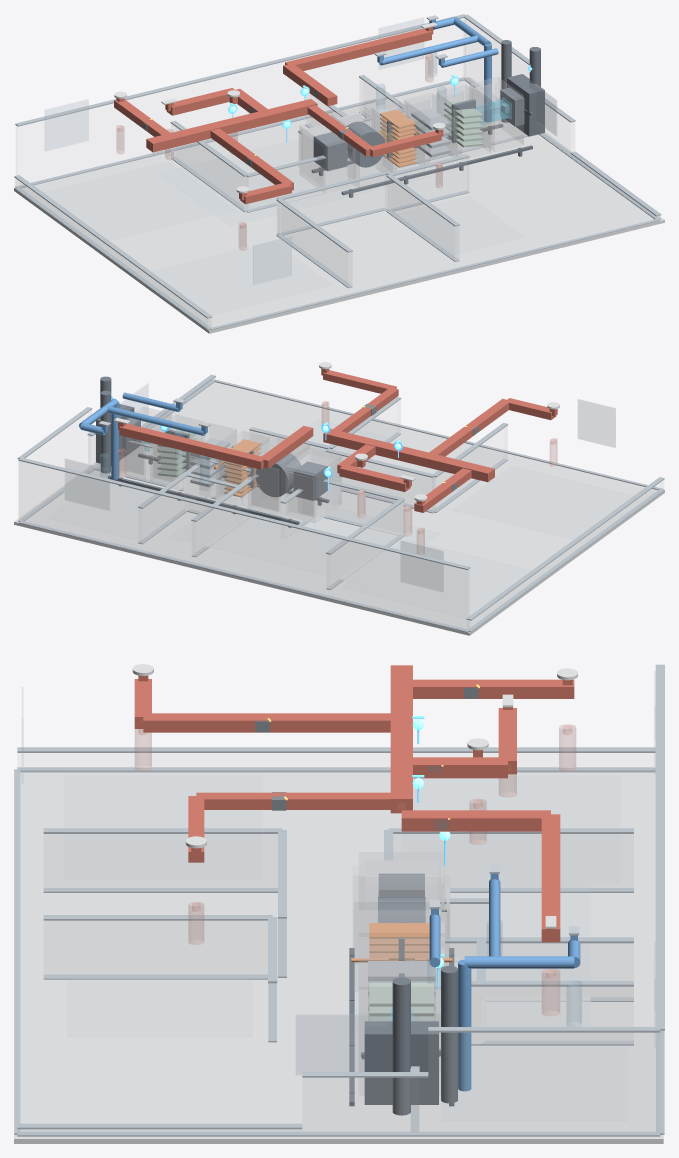
Rendered from pvu_installation.glb.
3 views of the same model, one above another, from view 1: azimuth 30°, elevation 25°; view 2: azimuth 150°, elevation 25°; view 3: azimuth 270°, elevation 25° (orthographic). The views are drawn at different scales.
Visible parts, largest first — view 1: building.floor, building.wall.outer_north, pvu.duct.supply.shell, building.wall.central_split, pvu.intake.outdoor_air.shell, pvu.filter.bank.shell, pvu.fan.supply.shell, building.wall.bedroom_south_east, pvu.silencer.section.shell, duct.main_02, building.wall.study_west, pvu.heater.coil.shell (+39 smaller); view 2: building.floor, building.wall.outer_north, pvu.duct.supply.shell, pvu.fan.supply.shell, building.wall.outer_north.cap, duct.branch_kitchen_run, duct.main_02, building.window_3, building.window_1, pvu.filter.bank.shell, building.wall.outer_east_upper, pvu.heater.coil.shell (+38 smaller); view 3: building.floor, building.wall.outer_east_upper, building.wall.bedroom_south_east, building.wall.study_west, building.wall.bedroom_north_east, building.wall.outer_west, building.wall.outer_east_mid, duct.branch_bed_south_rise, building.wall.living_kitchen_split, pvu.fan.supply.shell, pvu.intake.weather_hood, building.window_4 (+54 smaller).
Part boxes in pixels (x1,y1,x2,y2): building.floor: (14,77,664,333); building.wall.outer_north: (16,19,462,182); pvu.duct.supply.shell: (299,121,355,193); building.wall.central_split: (285,175,385,222); pvu.intake.outdoor_air.shell: (469,77,523,151); pvu.filter.bank.shell: (436,85,490,159); pvu.fan.supply.shell: (331,106,392,187); building.wall.bedroom_south_east: (277,202,351,284); pvu.silencer.section.shell: (404,93,457,167); duct.main_02: (146,107,282,152); building.wall.study_west: (387,178,458,258); pvu.heater.coil.shell: (371,101,424,175); building.floor: (14,382,664,635); building.wall.outer_north: (19,461,469,628); pvu.duct.supply.shell: (286,448,341,523); pvu.fan.supply.shell: (248,435,309,516); building.wall.outer_north.cap: (18,458,470,569); duct.branch_kitchen_run: (119,424,264,469); duct.main_02: (358,437,494,482); building.window_3: (65,458,109,510); building.window_1: (400,540,443,592); pvu.filter.bank.shell: (150,415,203,489); building.wall.outer_east_upper: (18,410,91,519); pvu.heater.coil.shell: (216,431,269,505); building.floor: (14,769,663,1143); building.wall.outer_east_upper: (429,1033,655,1131); building.wall.bedroom_south_east: (44,834,277,887); building.wall.study_west: (44,921,267,974); building.wall.bedroom_north_east: (394,834,633,887); building.wall.outer_west: (18,753,653,766); building.wall.outer_east_mid: (303,1078,427,1131); duct.branch_bed_south_rise: (143,713,390,732); building.wall.living_kitchen_split: (485,987,633,1026); pvu.fan.supply.shell: (353,875,449,991); pvu.intake.weather_hood: (364,1021,438,1104); building.window_4: (296,1014,388,1074).
Size of the model in its own units: 13.22 by 2.91 by 9.82.
